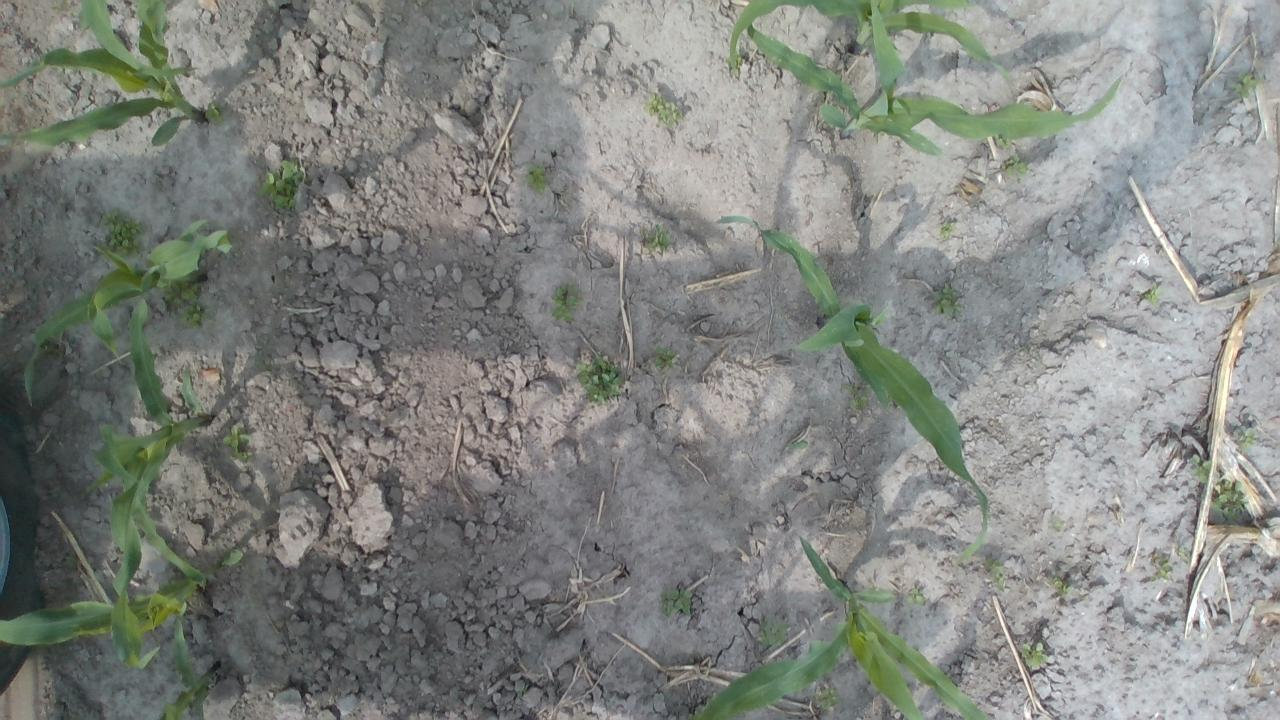Maize: (709, 211, 992, 564), (688, 533, 996, 720), (740, 16, 1126, 158), (80, 298, 214, 675), (22, 218, 230, 404), (731, 3, 998, 122), (1, 2, 209, 154), (1, 548, 248, 672), (160, 605, 220, 720)
Weeds: (1189, 453, 1250, 520), (164, 272, 210, 336), (258, 162, 308, 212), (580, 354, 621, 406), (103, 212, 144, 255), (646, 92, 684, 128), (1152, 548, 1188, 584), (662, 584, 695, 620), (933, 284, 965, 321), (1019, 640, 1056, 672), (759, 612, 787, 652), (638, 222, 671, 255), (550, 285, 580, 321), (222, 426, 252, 457), (651, 346, 680, 374), (846, 384, 871, 415), (1232, 425, 1259, 452), (990, 560, 1009, 595), (528, 166, 550, 192), (1237, 73, 1260, 96), (1049, 576, 1076, 594), (786, 437, 811, 454), (939, 215, 956, 239), (908, 584, 928, 603), (1145, 284, 1163, 303), (1008, 158, 1026, 172), (1267, 516, 1280, 534), (1054, 520, 1068, 534)
